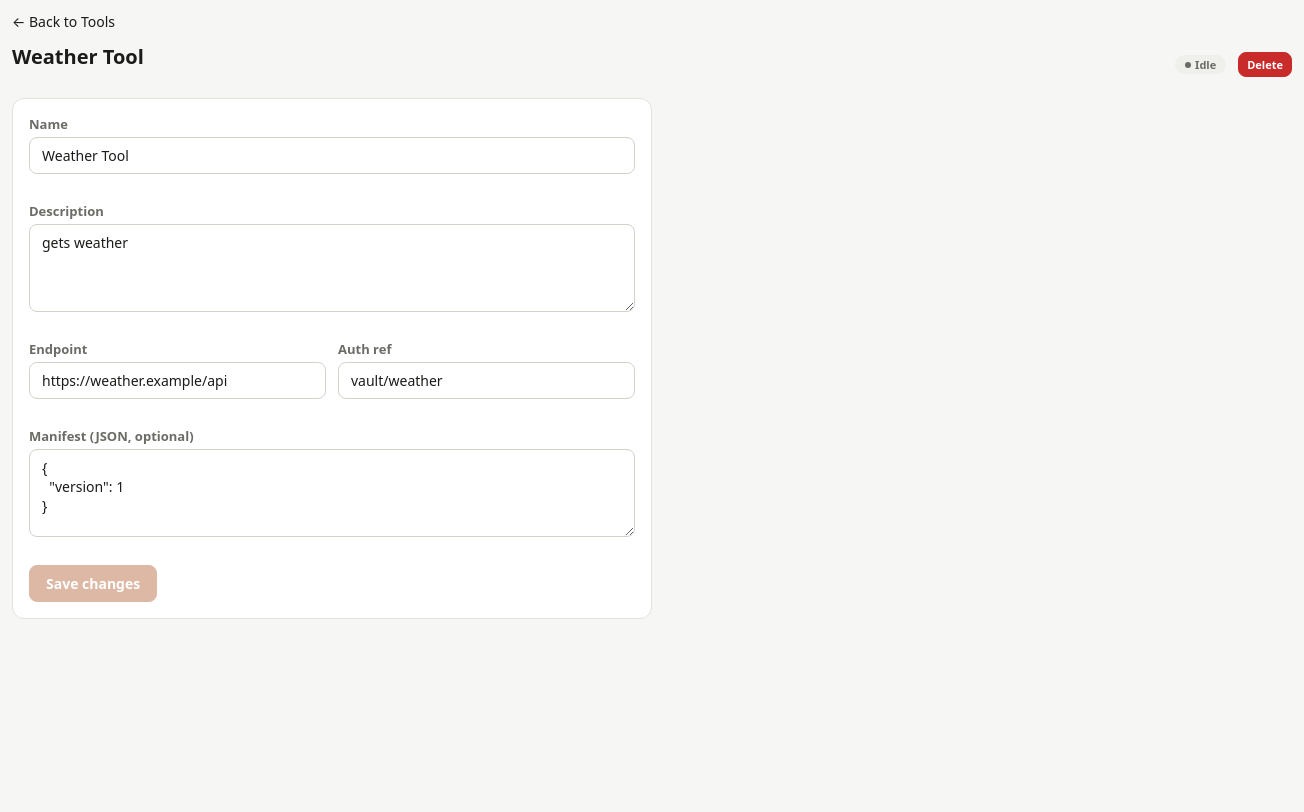
Test: registry tool editing › save failure surfaces the error
Replace the text in the field showing "Weather Tool" with "Changed" at (332, 156), box left=29, top=137, right=635, bottom=174
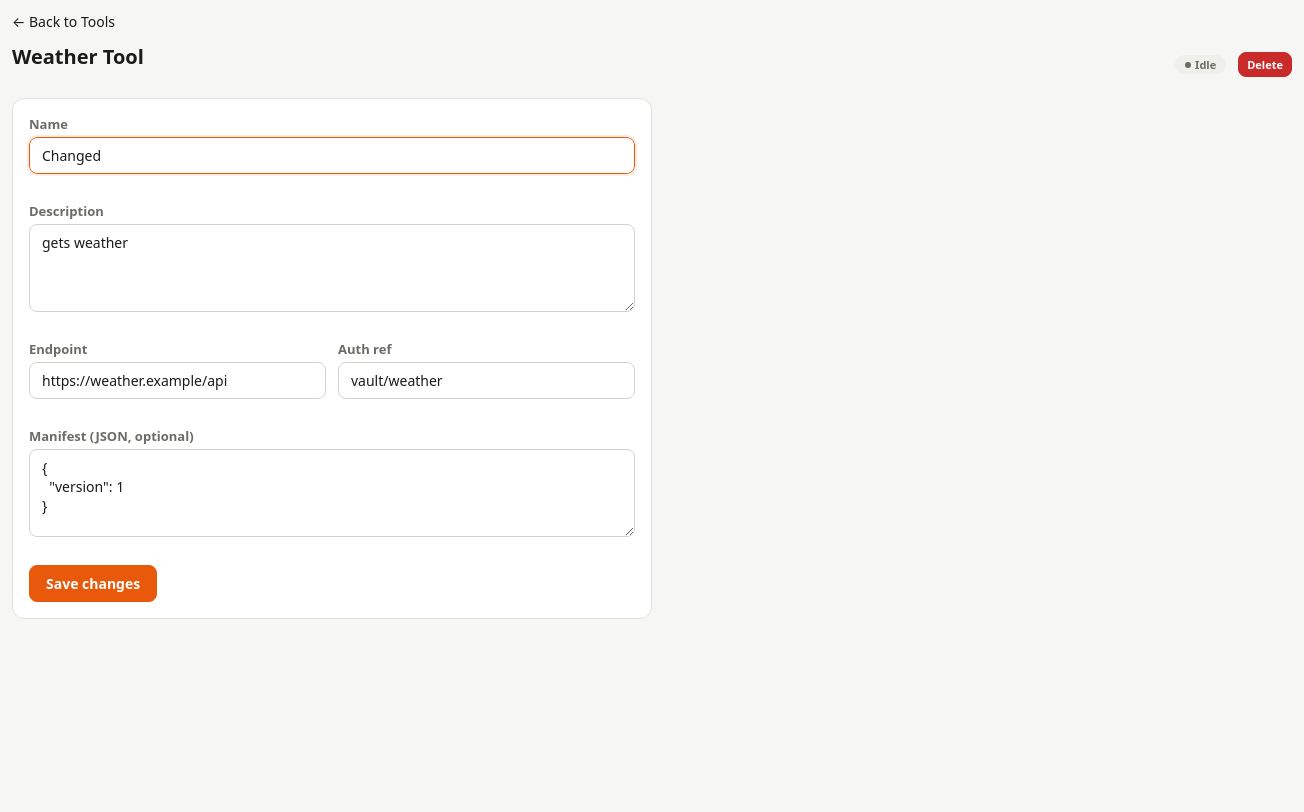
Click the button "Save changes" at (93, 584), box left=29, top=565, right=157, bottom=602
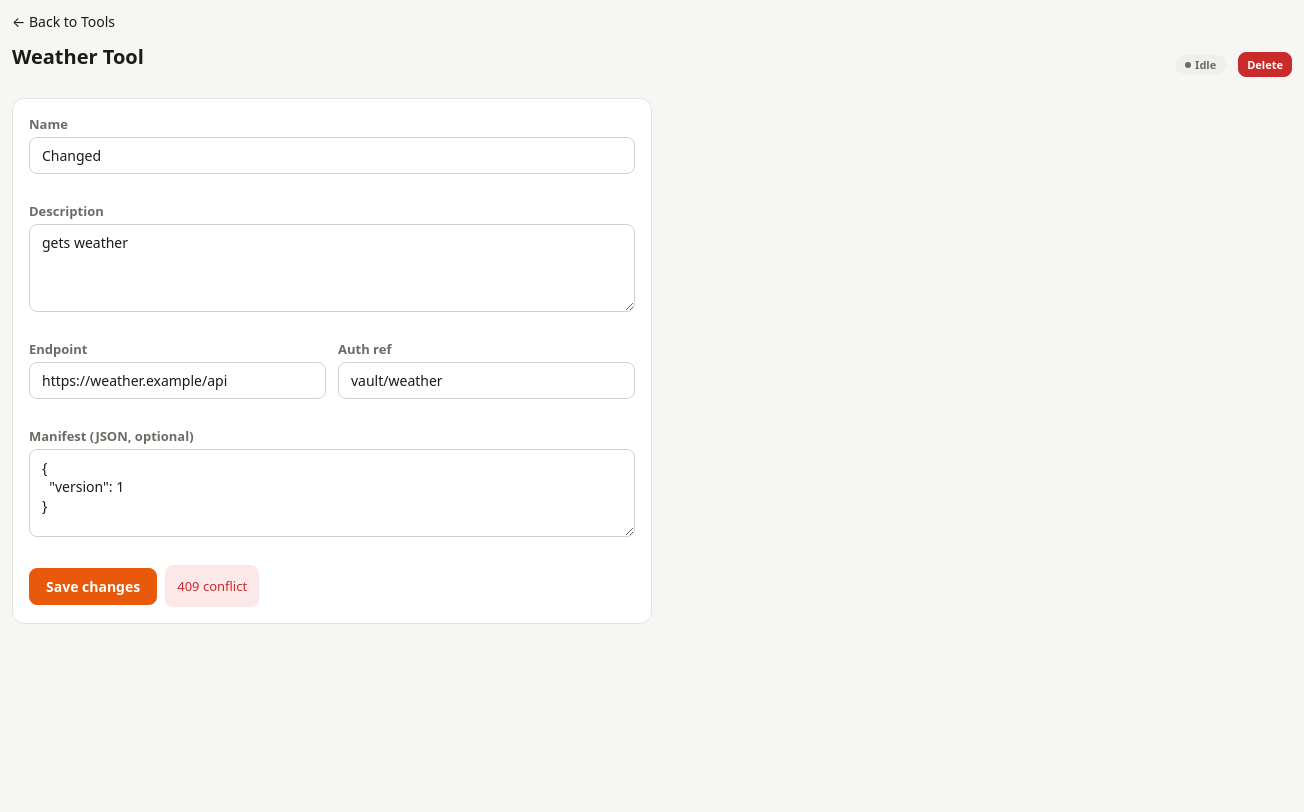
Result: the message reads "409 conflict" at left=177, top=577, right=247, bottom=595
